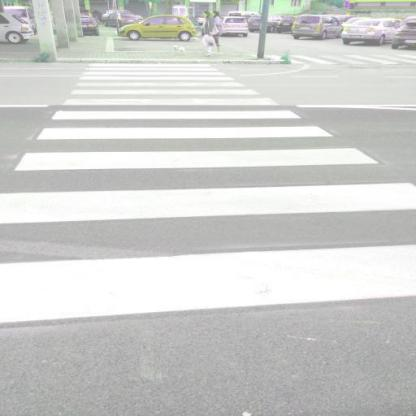crosswalk: (6, 122, 384, 178), (58, 87, 284, 107)
